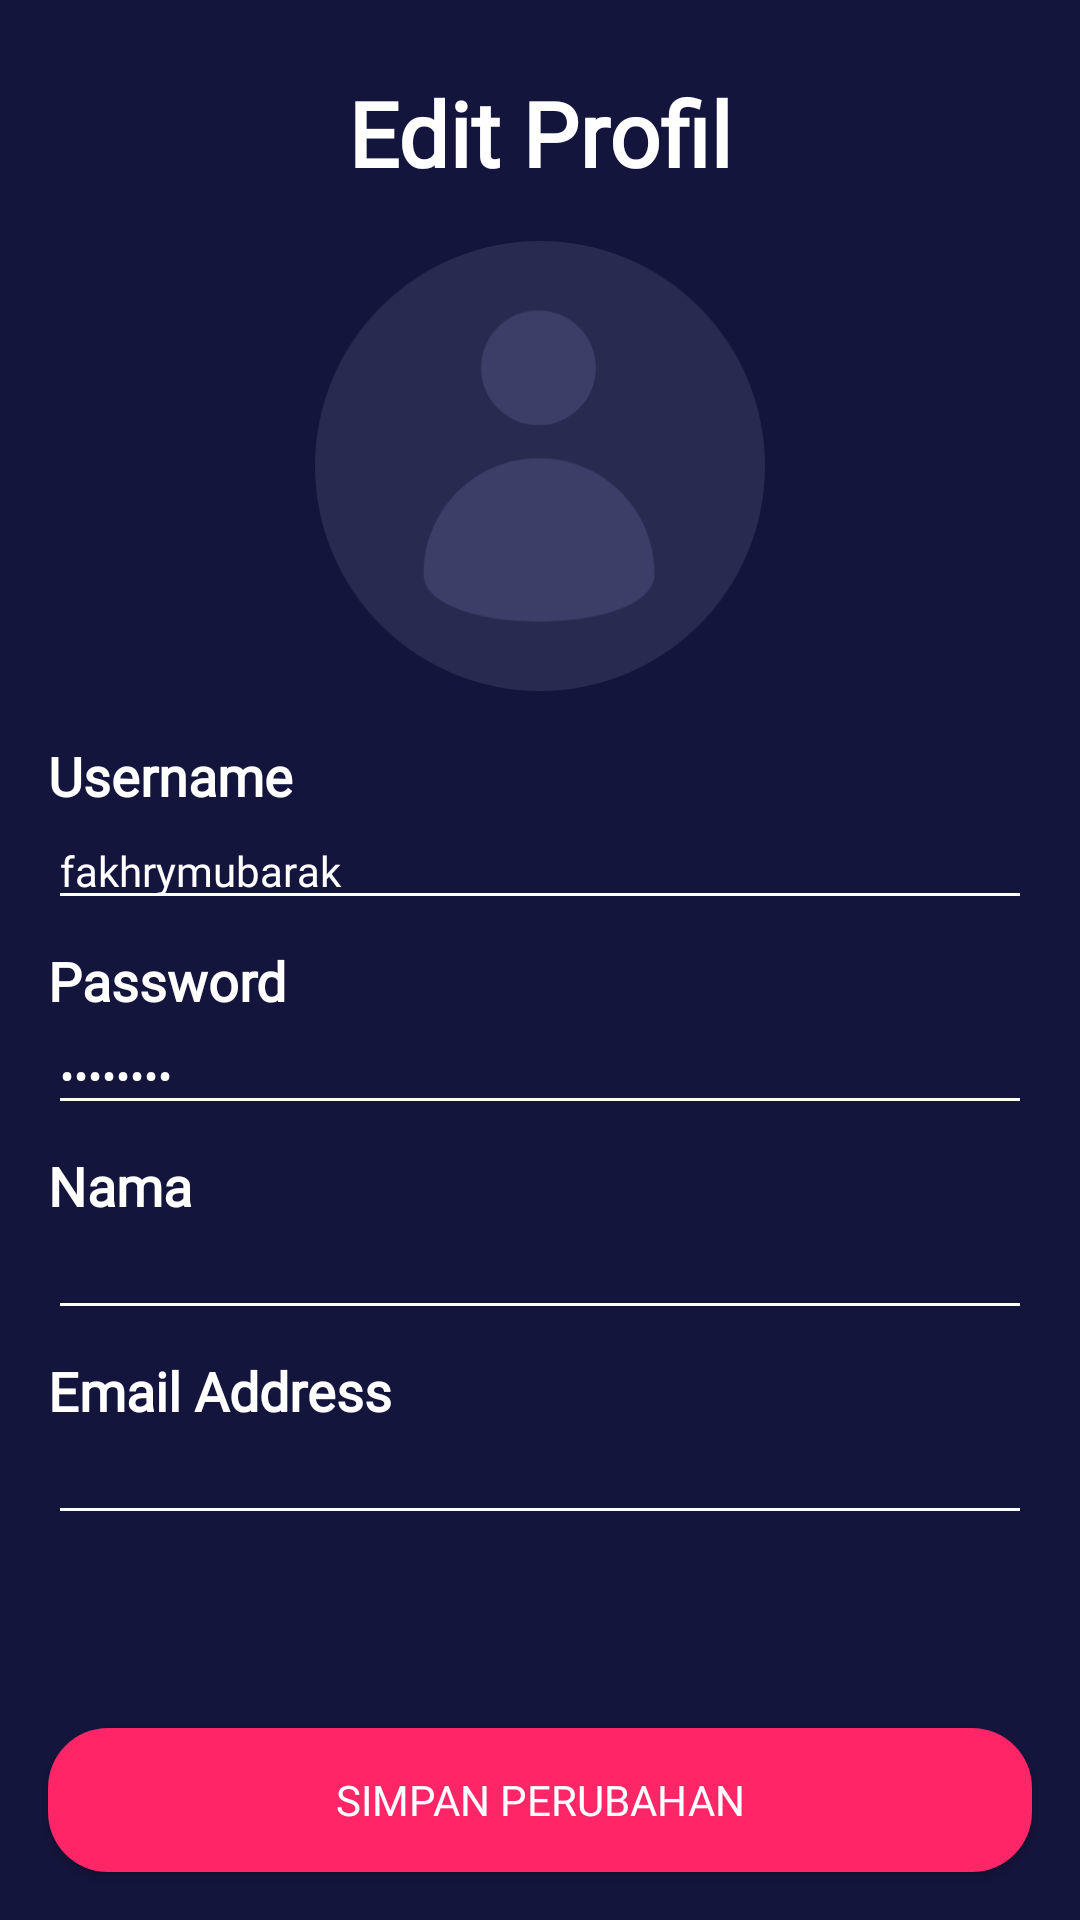

Named icons in this screenshot (1080×1920) and their bounding boxes, BBox(x1, y1, x2, y2):
user pic: BBox(423, 310, 655, 622)
